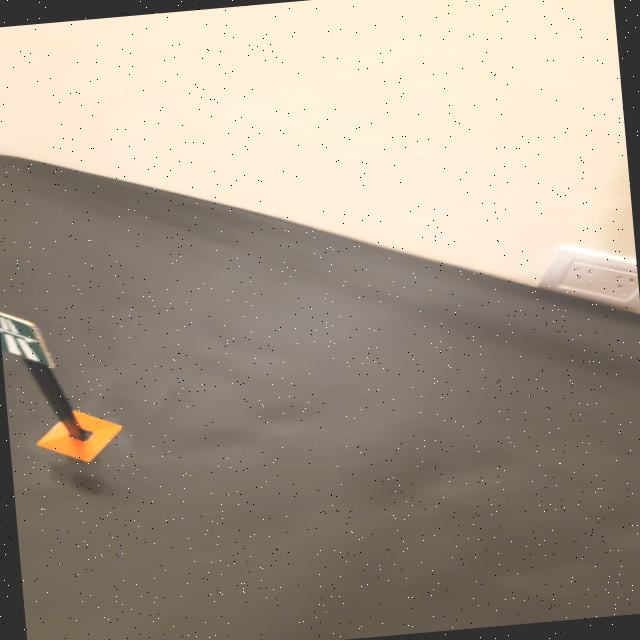highway_entrance: (0, 305, 47, 377)
